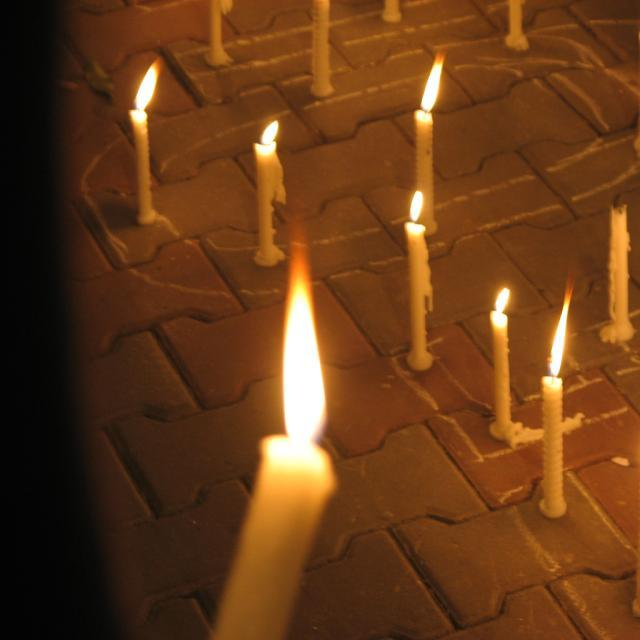Fire: (288, 310, 318, 432), (139, 70, 159, 112), (421, 68, 439, 104), (553, 326, 567, 366), (410, 190, 425, 218), (260, 125, 278, 145)
